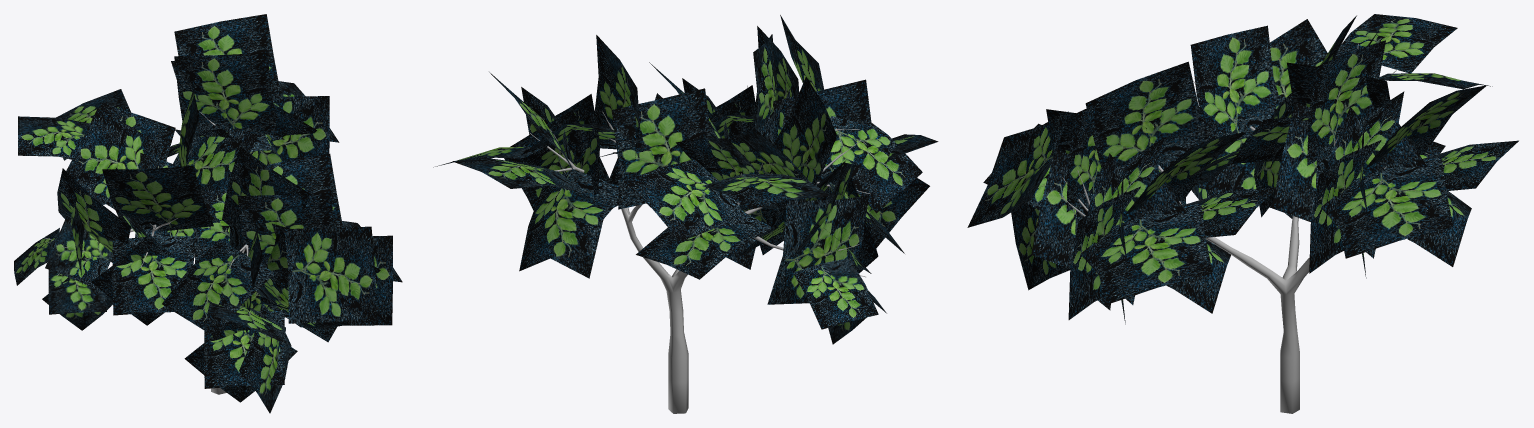
Rendered from Tree3Variation.fbx.
The picture shows the model from 3 angles, left to right: view 1: azimuth 30°, elevation 25°; view 2: azimuth 150°, elevation 25°; view 3: azimuth 270°, elevation 25°; orthographic projection. The views are drawn at different scales.
Parts seen in each view (by area): view 1: pPlane50, pPlane26, pPlane16, pPlane9, pPlane7, pPlane4, pPlane34, pPlane14, pPlane30, pPlane25, pPlane3, pPlane8 (+20 smaller); view 2: pPlane15, pPlane10, pPlane27, pPlane50, pPlane5, pPlane7, lsystem_object1, pPlane1, pPlane18, pPlane9, pPlane17, pPlane16 (+17 smaller); view 3: pPlane50, pPlane11, pPlane12, pPlane9, pPlane16, pPlane26, lsystem_object1, pPlane17, pPlane36, pPlane30, pPlane37, pPlane14 (+11 smaller).
Part boxes in pixels (x1,y1,x2,y2): pPlane50: [237, 154, 402, 342]; pPlane26: [284, 226, 376, 323]; pPlane16: [174, 53, 277, 134]; pPlane9: [102, 166, 213, 230]; pPlane7: [162, 239, 275, 337]; pPlane4: [112, 236, 193, 315]; pPlane34: [66, 108, 164, 209]; pPlane14: [174, 14, 280, 96]; pPlane30: [257, 95, 329, 164]; pPlane25: [173, 123, 258, 191]; pPlane3: [204, 311, 284, 388]; pPlane8: [57, 168, 130, 262]; pPlane15: [519, 169, 625, 278]; pPlane10: [611, 88, 711, 209]; pPlane27: [767, 195, 869, 304]; pPlane50: [600, 26, 871, 269]; pPlane5: [624, 159, 750, 241]; pPlane7: [826, 116, 922, 213]; lsystem_object1: [529, 85, 870, 413]; pPlane1: [793, 258, 878, 329]; pPlane18: [636, 212, 772, 279]; pPlane9: [773, 76, 836, 200]; pPlane17: [702, 173, 830, 209]; pPlane16: [594, 35, 640, 157]; pPlane50: [1031, 104, 1275, 324]; pPlane11: [1085, 61, 1208, 170]; pPlane12: [1335, 157, 1453, 258]; pPlane9: [1190, 25, 1278, 140]; pPlane16: [1307, 40, 1385, 165]; pPlane26: [967, 111, 1068, 227]; lsystem_object1: [1059, 43, 1396, 413]; pPlane17: [1335, 14, 1457, 73]; pPlane36: [1272, 102, 1316, 221]; pPlane30: [1309, 140, 1381, 273]; pPlane37: [1316, 91, 1426, 187]; pPlane14: [1364, 85, 1486, 169].
Size of the model in its own units: 6.57 by 5.97 by 7.92.
